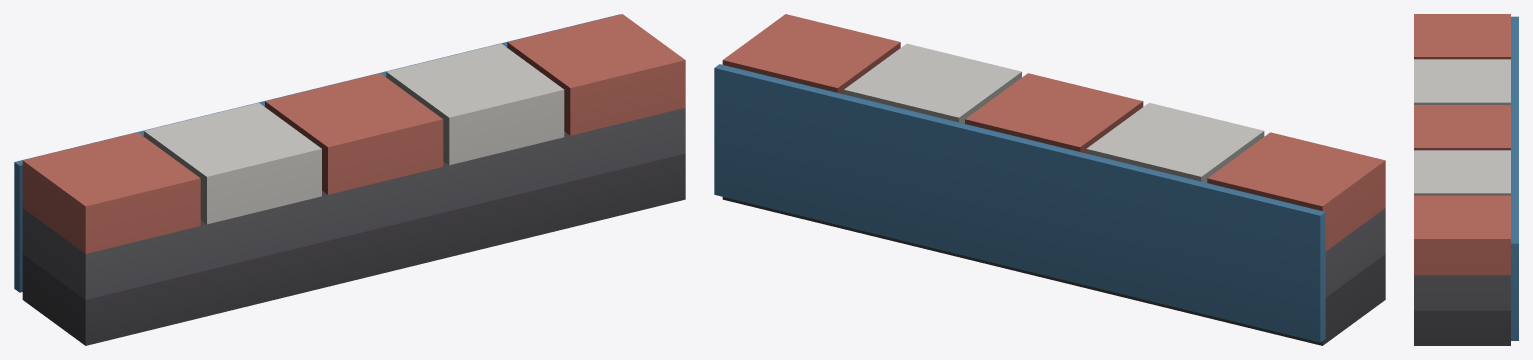
File: tyrewall.lod2.glb
The picture shows the model from 3 angles, left to right: view 1: azimuth 30°, elevation 25°; view 2: azimuth 150°, elevation 25°; view 3: azimuth 270°, elevation 25°; orthographic projection. The views are drawn at different scales.
Bounding box in the file's own units: 4 × 0.88 × 0.78.
